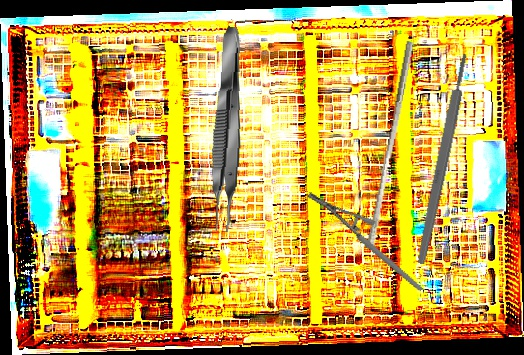Needle Holder: (305, 167, 424, 317)
Pusher: (365, 39, 414, 251)
Scalpel Handle: (414, 53, 472, 265)
Tissue Forceps: (207, 25, 248, 233)
